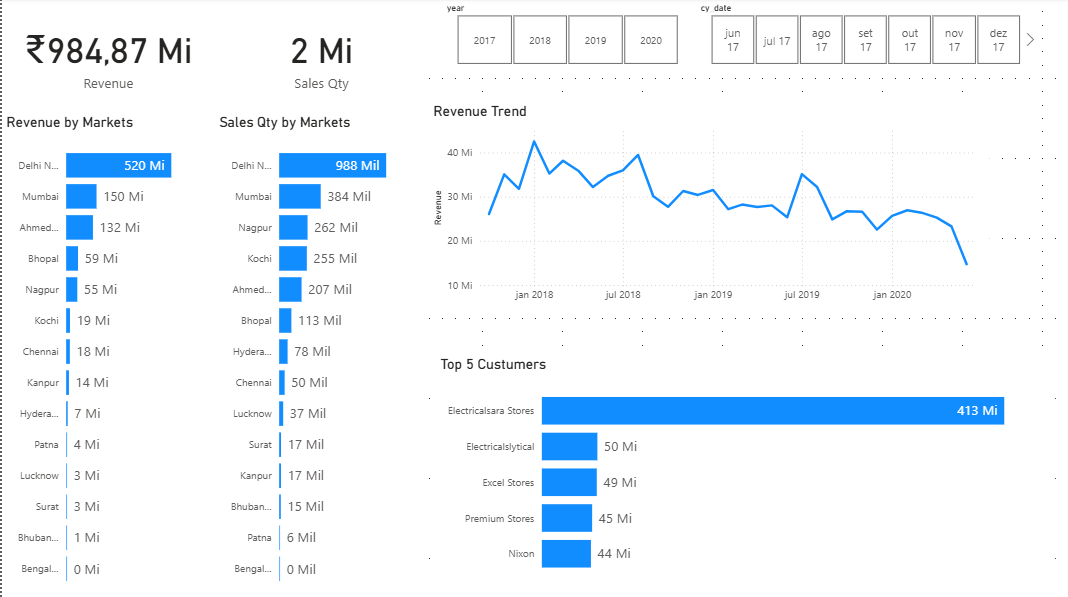

What the dashboard file says about the page in this screenshot:
{"tool":"powerbi","page":{"name":"Página 1","canvas":[1280,720],"ordinal":0},"visuals":[{"type":"card","fields":{"Values":["BaseMeasures.Revenue"]},"box":[0,0,255.6,139.2],"z":0},{"type":"card","fields":{"Values":["BaseMeasures.Sales Qty"]},"box":[255.6,0,255.6,139.2],"z":1000},{"type":"barChart","title":"Revenue by Markets","fields":{"Y":["BaseMeasures.Revenue"],"Category":["sales markets.markets_name"]},"box":[0,139.2,255.6,580.8],"z":2000},{"type":"slicer","fields":{"Values":["sales date.year"]},"box":[520.8,0,314.4,86.4],"z":3000},{"type":"barChart","title":"Sales Qty by Markets","fields":{"Y":["BaseMeasures.Sales Qty"],"Category":["sales markets.markets_name"]},"box":[255.6,139.2,255.6,580.8],"z":4000},{"type":"slicer","fields":{"Values":["sales date.cy_date"]},"box":[825.8,0,419.7,86.2],"z":5000},{"type":"barChart","title":"Top 5 Custumers","fields":{"Y":["BaseMeasures.Revenue"],"Category":["sales customers.custmer_name"]},"box":[520.8,429.6,742.8,277.2],"z":6000},{"type":"lineChart","title":"Revenue Trend","fields":{"Y":["BaseMeasures.Revenue"],"Category":["sales date.cy_date.Variation.Hierarquia de datas.Ano","sales date.cy_date.Variation.Hierarquia de datas.Trimestre","sales date.cy_date.Variation.Hierarquia de datas.Mês","sales date.cy_date.Variation.Hierarquia de datas.Dia"]},"box":[512.4,126,673.2,248.4],"z":6002}]}

Visuals, with their boxes in screenshot pixels (x1, y1, x2, y2), scaled from the page's 1280x720 canvas onto the 1068x597 screenshot:
card - BaseMeasures.Revenue: [0,0,213,115]
card - BaseMeasures.Sales Qty: [213,0,427,115]
"Revenue by Markets" barChart: [0,115,213,596]
slicer - sales date.year: [435,0,697,72]
"Sales Qty by Markets" barChart: [213,115,427,596]
slicer - sales date.cy_date: [689,0,1039,71]
"Top 5 Custumers" barChart: [435,356,1054,586]
"Revenue Trend" lineChart: [428,104,989,310]
